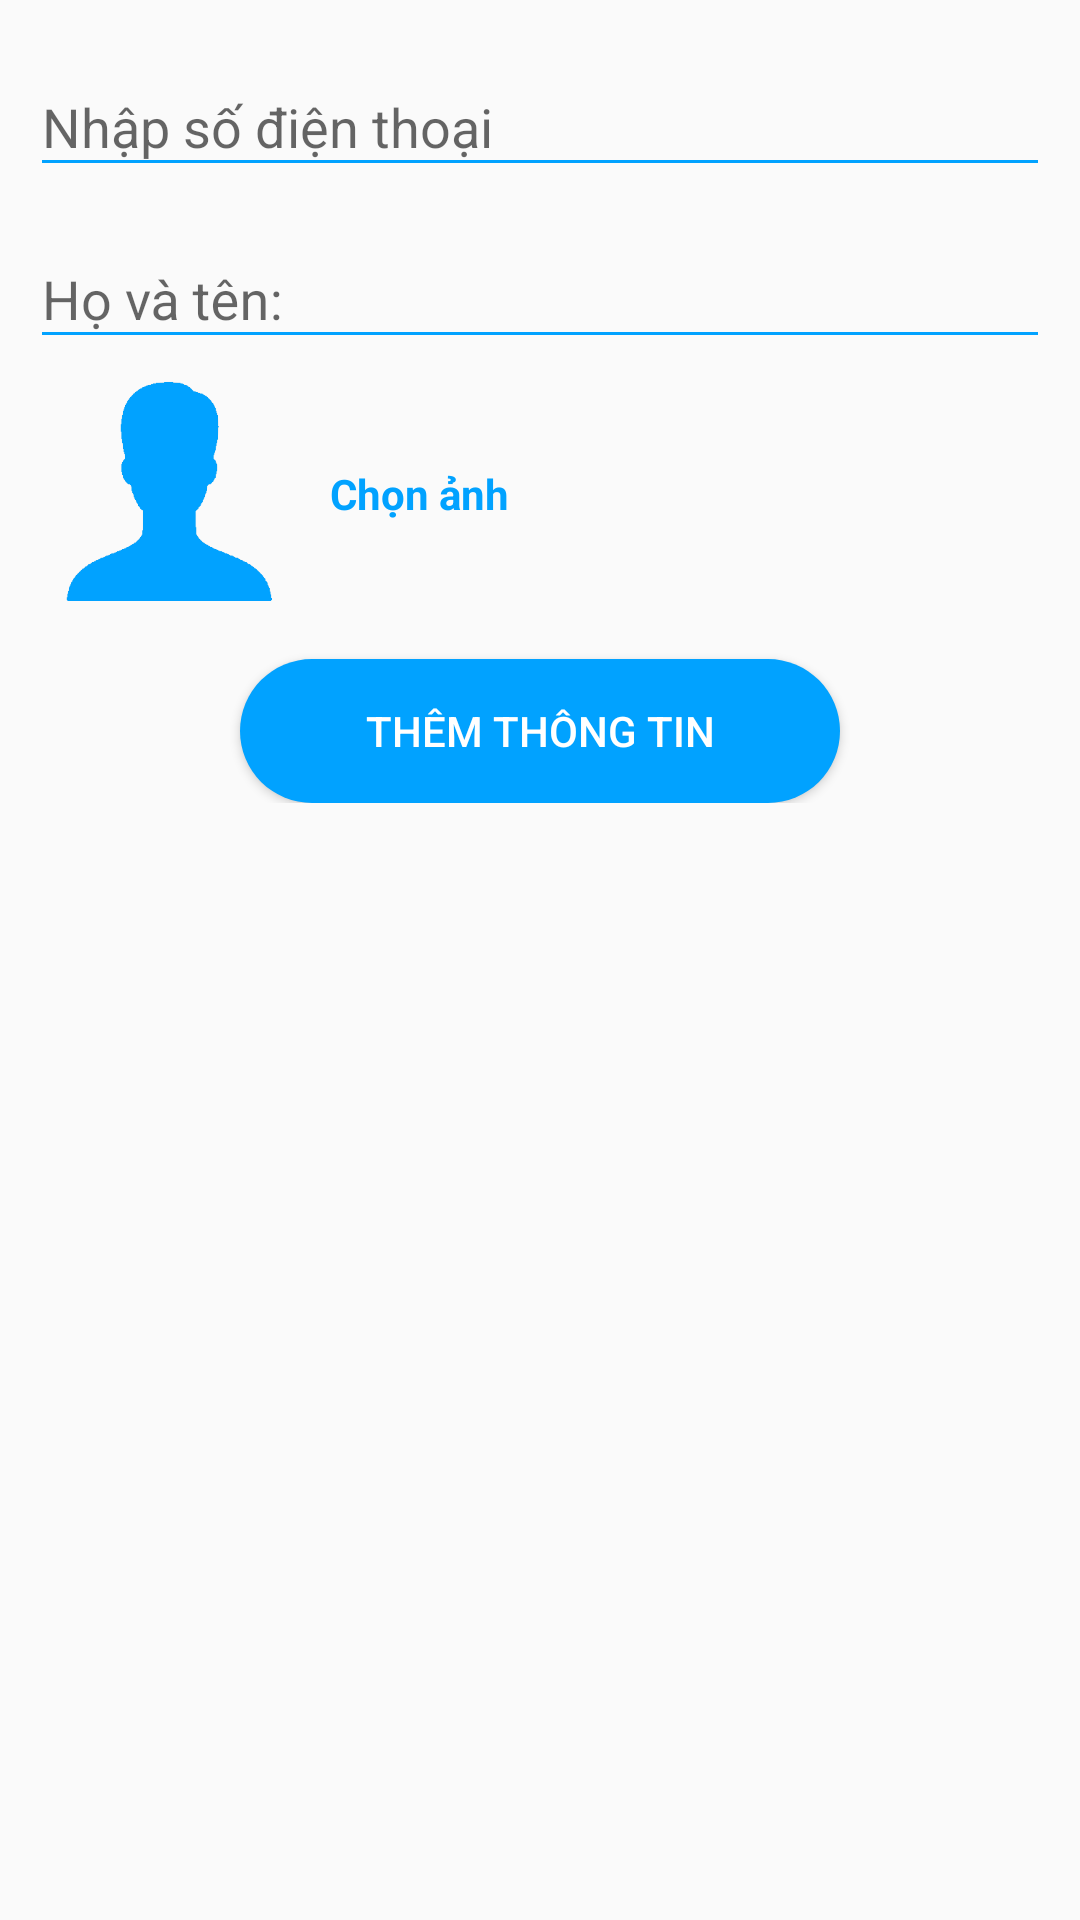

Point at icon controls on the screen. Image size 1080x1920, points as (x,y).
userinfor: (169,491)
